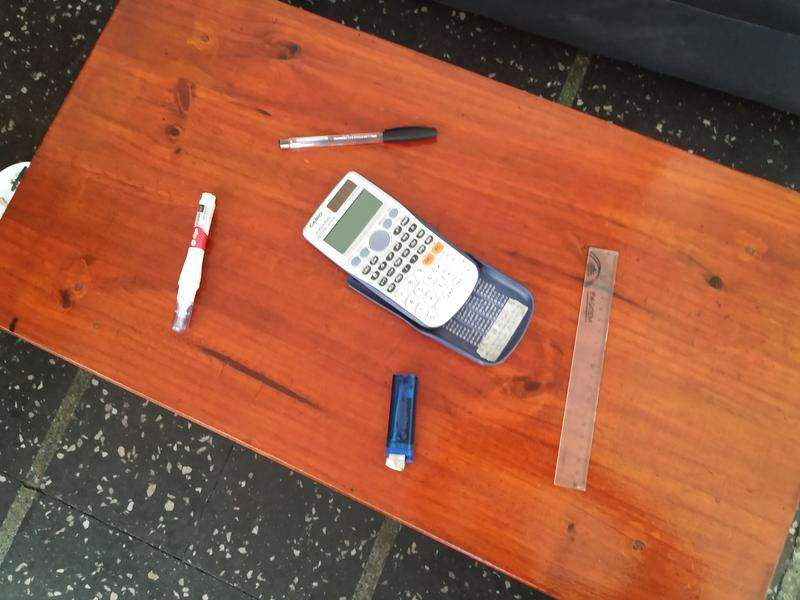calculadora: (300, 163, 479, 336)
corrector: (168, 185, 218, 335)
encendedor: (377, 368, 421, 480)
lapicera: (271, 108, 446, 155)
regla: (549, 237, 622, 494)
